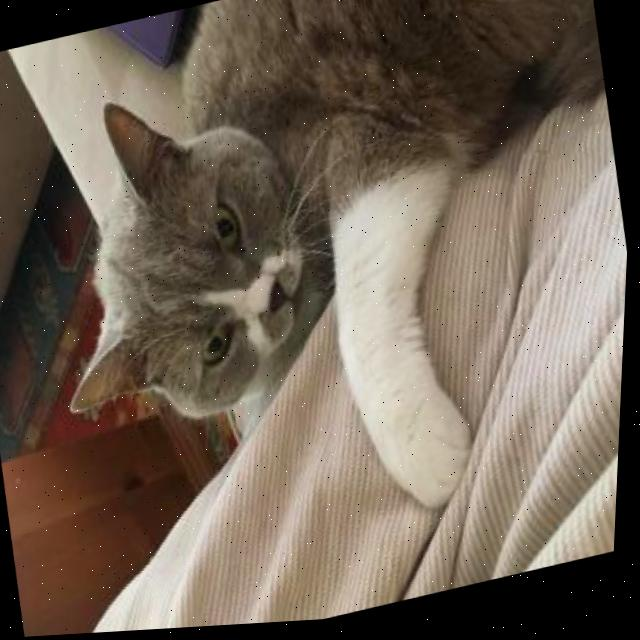British Shorthair: (0, 0, 640, 601)
